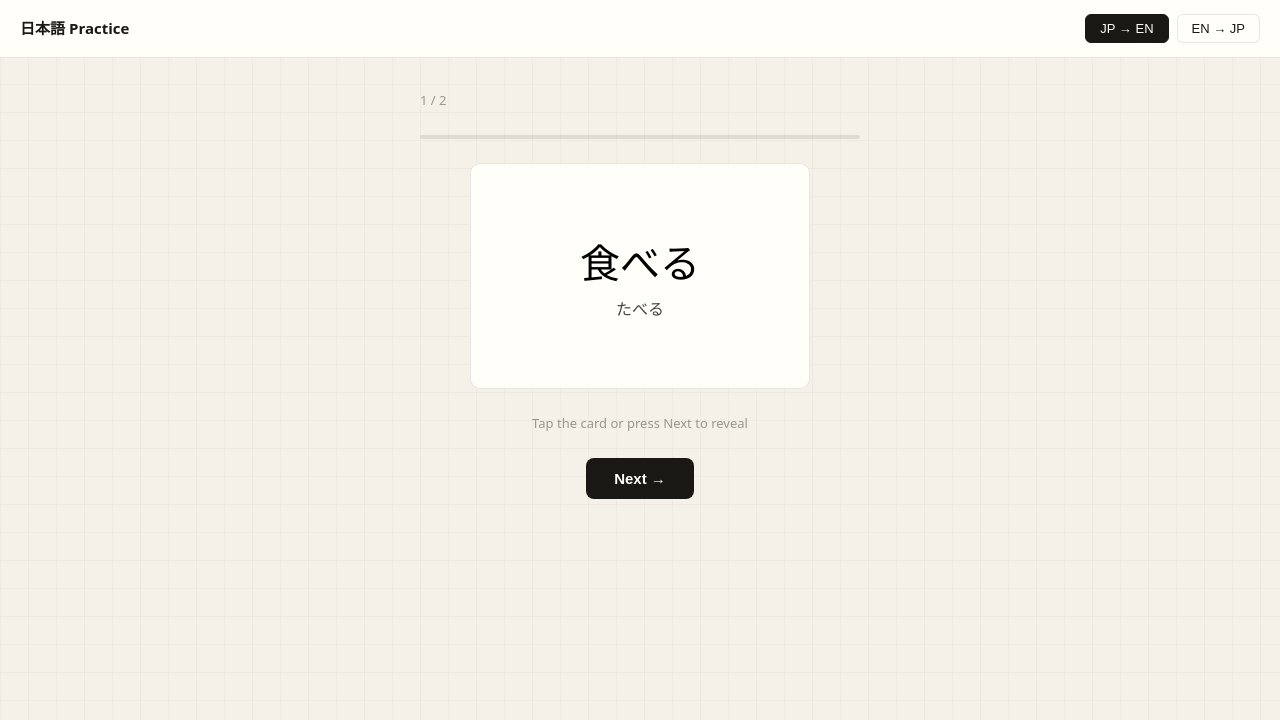
Test: VocabularyPractice › first press reveals back, second press advances card
This screenshot has width=1280, height=720.
Click the button "Next →" at (640, 479), box [586,458,694,499]
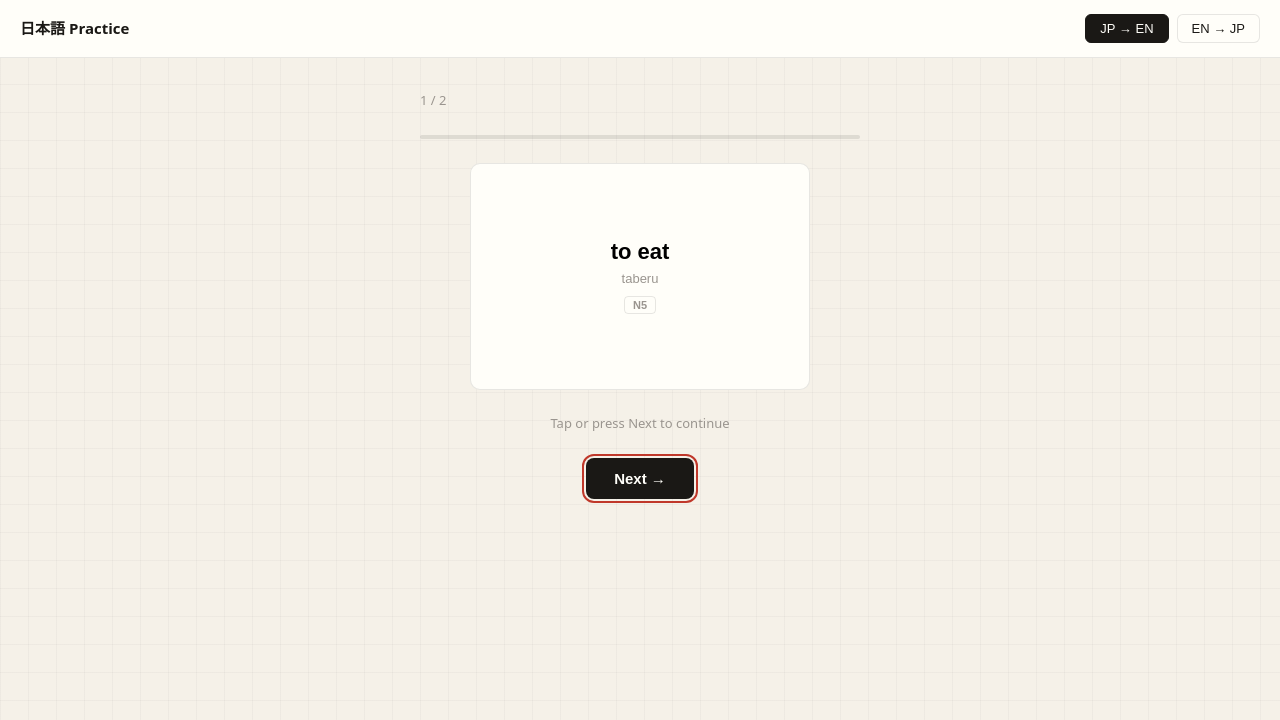
Expected: the text "1 / 2" is shown, [420,90,446,111]
Result: the button with aria-label "flip" is pressed at [470,163,810,390]
Click the button "Next →" at (640, 479), box [586,458,694,499]
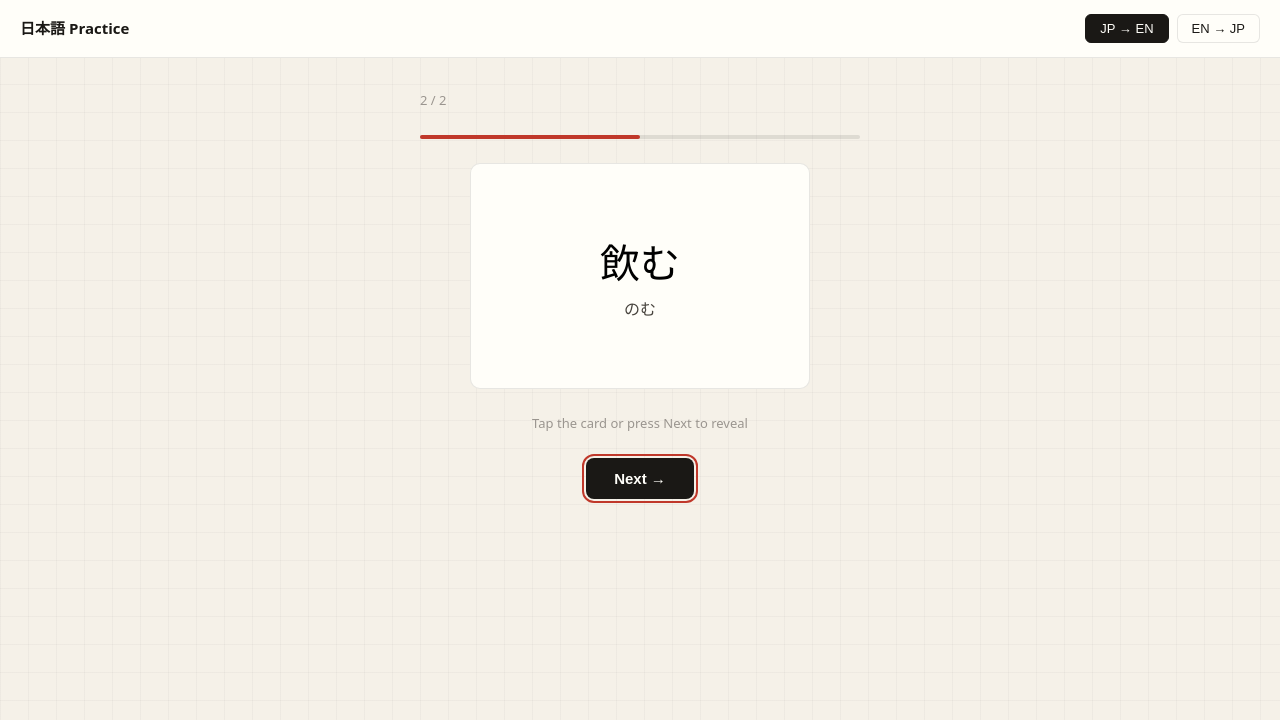
Result: the text "2 / 2" is shown at [420,90,446,111]
